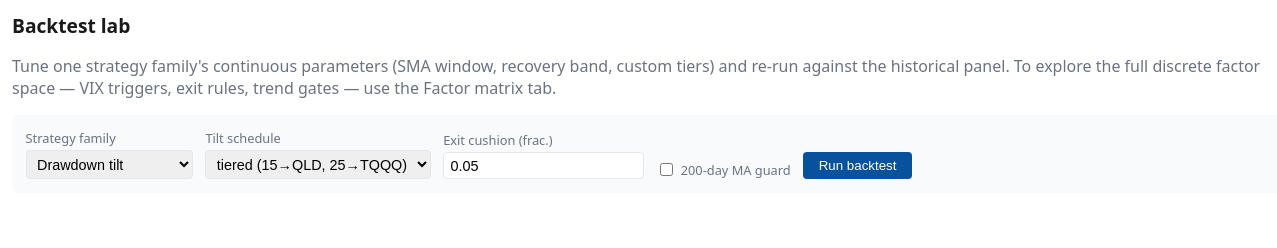
Test case: surfaces an error when the compute endpoint fails
This screenshot has width=1277, height=248.
Step 1. Click the button "Run backtest" → (858, 166), box x1=803 y1=152 x2=912 y2=179
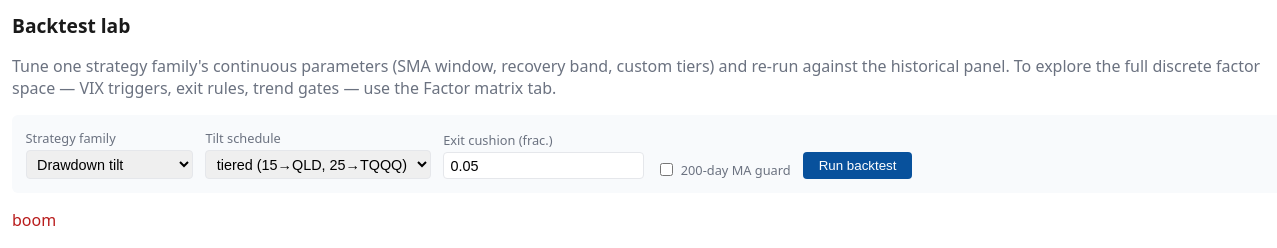
Expected: the message reads "boom", x1=12 y1=209 x2=56 y2=231
